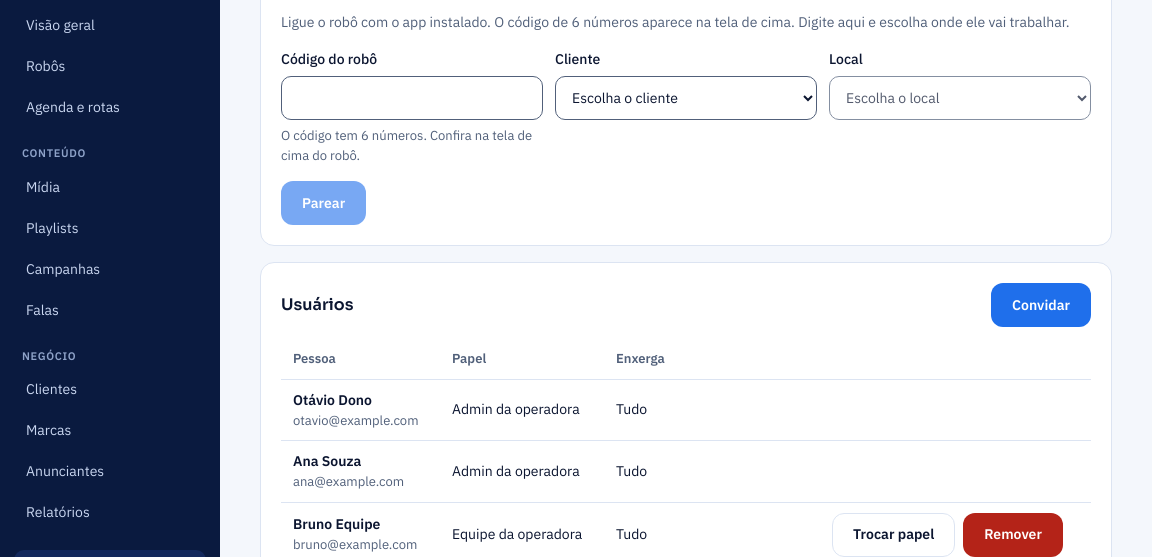
inviting › invites an operator member without a client
This screenshot has width=1152, height=557.
Expected: the button with aria-label "Remover Bruno Equipe" is shown, left=963, top=512, right=1063, bottom=556
Click the button "Convidar" at (1041,305), box left=991, top=283, right=1091, bottom=327
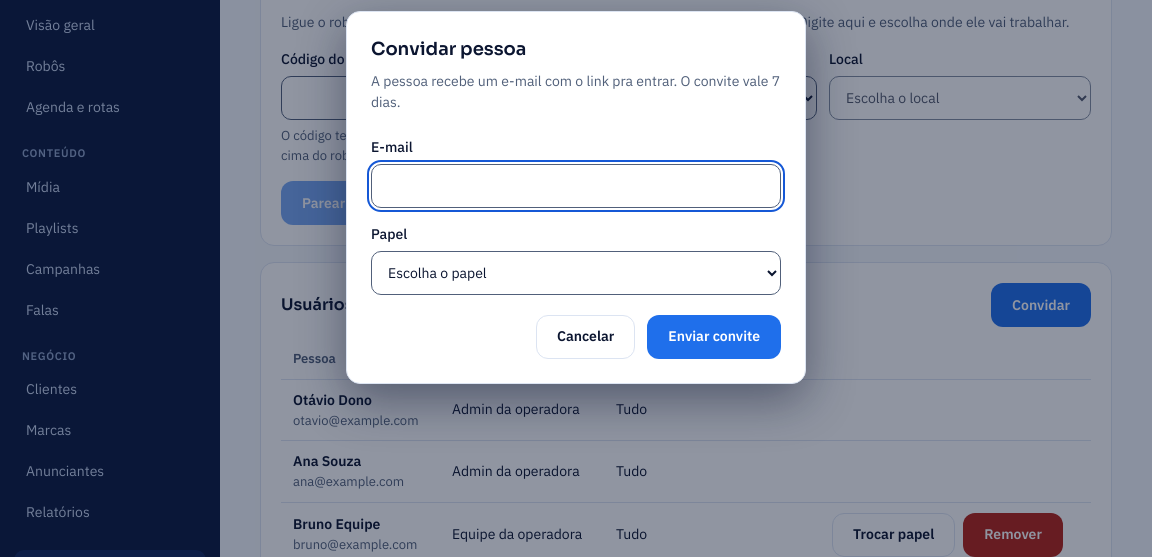
Type "nova@example.com" into the field labelled "E-mail" at (576,186), box left=371, top=164, right=781, bottom=208
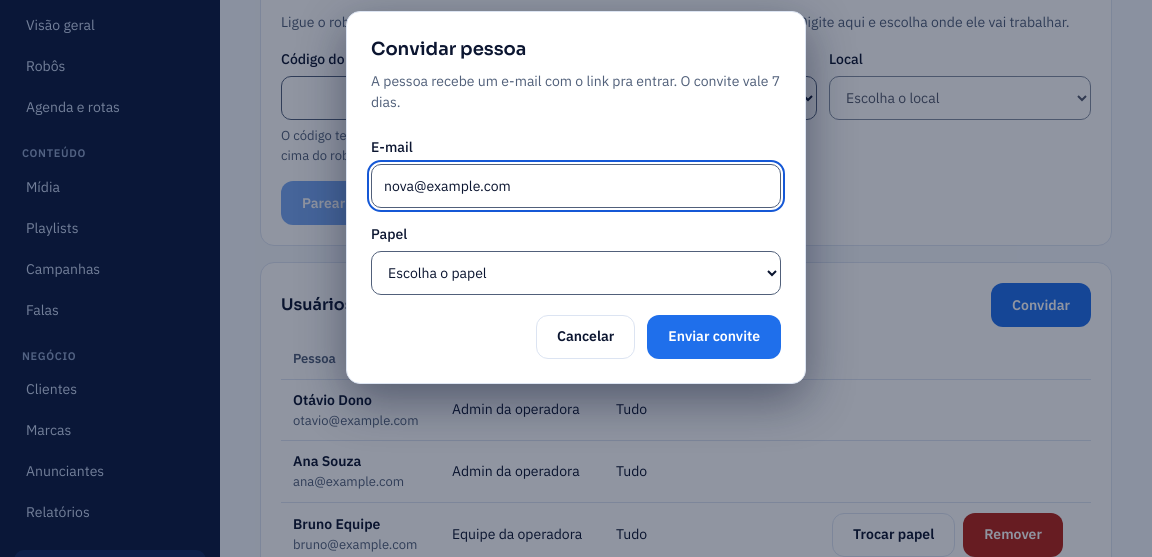
Select "Equipe da operadora" in the dropdown labelled "Papel" at (576,272), box left=371, top=250, right=781, bottom=294
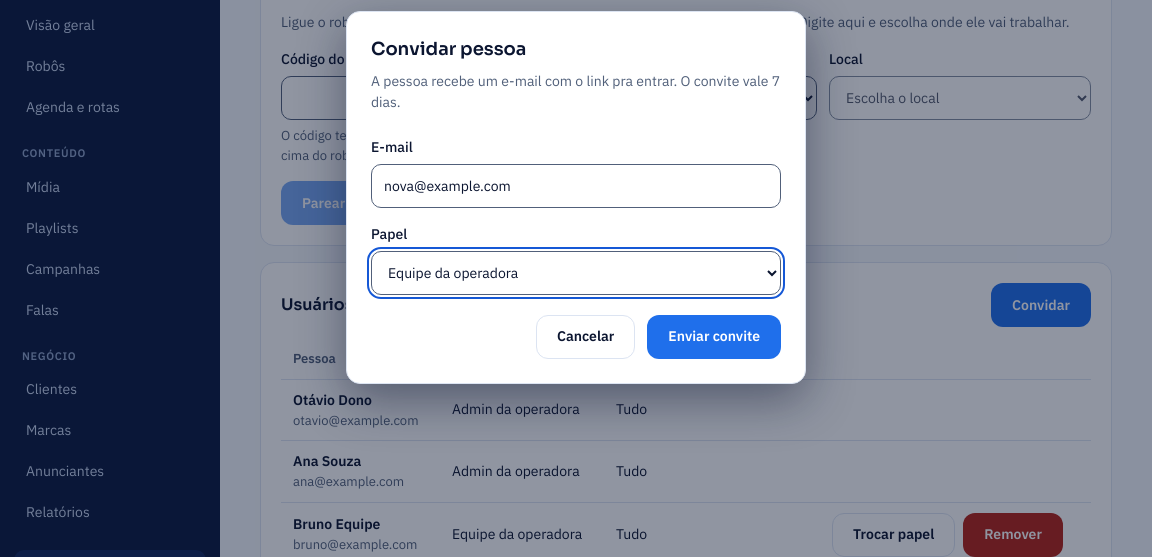
Click the button "Enviar convite" at (714,336), box left=647, top=314, right=781, bottom=358
(page scrolled)
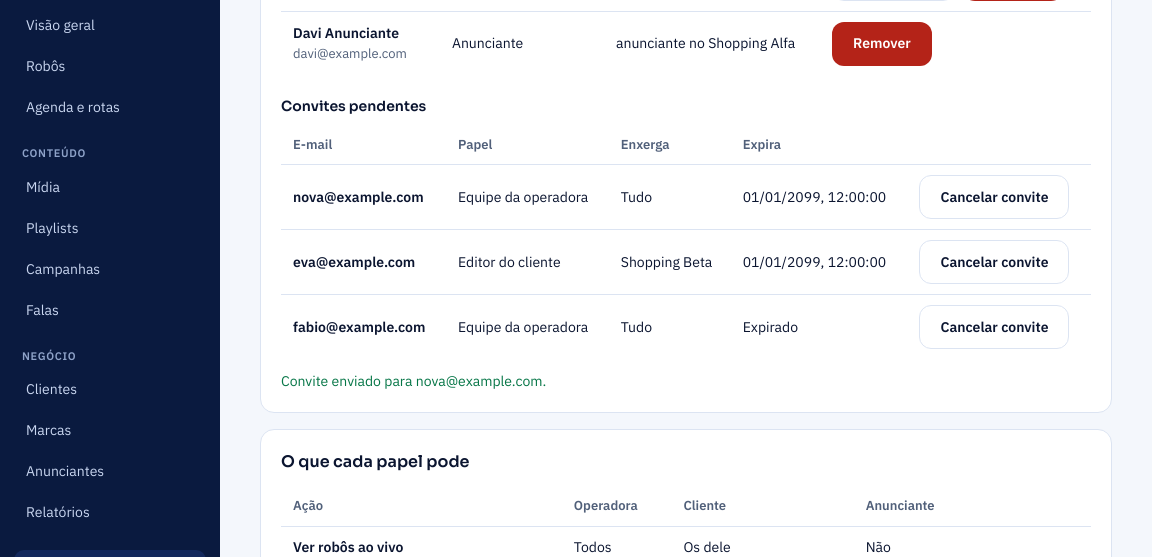
Expected: the text "Convite enviado para nova@example.com." is shown, left=281, top=372, right=546, bottom=390
Expected: the dialog is gone
Expected: the row "nova@example.com" is shown, left=281, top=165, right=1091, bottom=230
